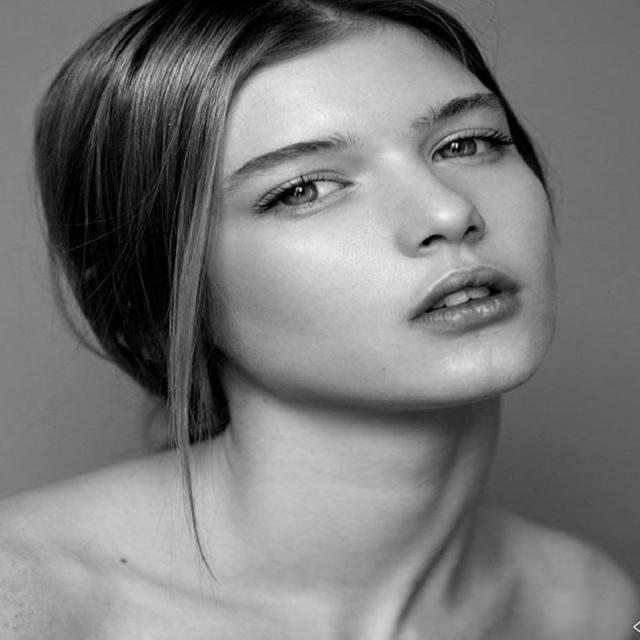front: (228, 122, 582, 393)
